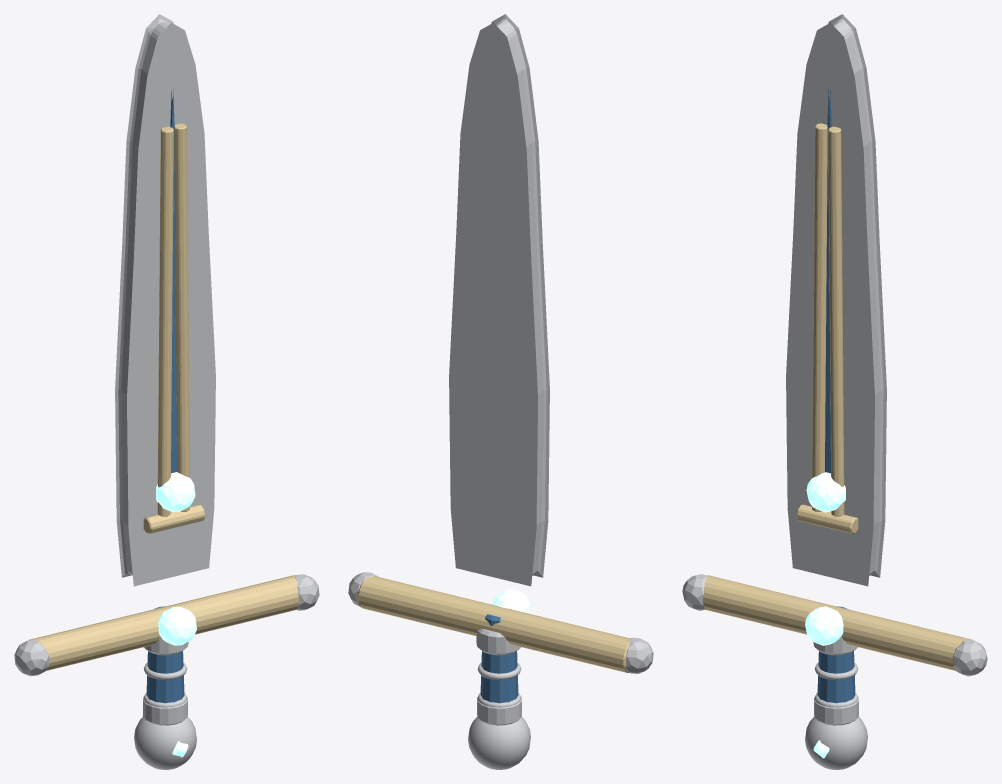
The model's file is warrior-sword-10-royal-lion.glb.
3 views of the same model, side by side, from view 1: azimuth 30°, elevation 25°; view 2: azimuth 150°, elevation 25°; view 3: azimuth 330°, elevation 25° (orthographic).
Visible parts, largest first — view 1: warrior-sword-10-royal-lion_ForgedBlade, warrior-sword-10-royal-lion_Crossguard, warrior-sword-10-royal-lion_GothicFullerRail_-1, warrior-sword-10-royal-lion_GothicFullerRail_1, warrior-sword-10-royal-lion_Pommel, warrior-sword-10-royal-lion_LeatherGrip, warrior-sword-10-royal-lion_ColoredFuller, warrior-sword-10-royal-lion_GuardGem, warrior-sword-10-royal-lion_FleurSapphire, warrior-sword-10-royal-lion_GuardEnd_-1, warrior-sword-10-royal-lion_HeraldicCrossbar, warrior-sword-10-royal-lion_LowerFerrule (+1 smaller); view 2: warrior-sword-10-royal-lion_ForgedBlade, warrior-sword-10-royal-lion_Crossguard, warrior-sword-10-royal-lion_Pommel, warrior-sword-10-royal-lion_LeatherGrip, warrior-sword-10-royal-lion_LowerFerrule, warrior-sword-10-royal-lion_GuardEnd_-1, warrior-sword-10-royal-lion_UpperFerrule, warrior-sword-10-royal-lion_GuardGem; view 3: warrior-sword-10-royal-lion_ForgedBlade, warrior-sword-10-royal-lion_Crossguard, warrior-sword-10-royal-lion_GothicFullerRail_1, warrior-sword-10-royal-lion_GothicFullerRail_-1, warrior-sword-10-royal-lion_Pommel, warrior-sword-10-royal-lion_LeatherGrip, warrior-sword-10-royal-lion_ColoredFuller, warrior-sword-10-royal-lion_GuardGem, warrior-sword-10-royal-lion_FleurSapphire, warrior-sword-10-royal-lion_GuardEnd_1, warrior-sword-10-royal-lion_HeraldicCrossbar, warrior-sword-10-royal-lion_LowerFerrule (+1 smaller).
Part boxes in pixels (x1,y1,x2,y2): warrior-sword-10-royal-lion_ForgedBlade: (115,14,215,586); warrior-sword-10-royal-lion_Crossguard: (29,575,298,670); warrior-sword-10-royal-lion_GothicFullerRail_-1: (157,126,173,516); warrior-sword-10-royal-lion_GothicFullerRail_1: (174,123,189,511); warrior-sword-10-royal-lion_Pommel: (134,717,196,769); warrior-sword-10-royal-lion_LeatherGrip: (146,606,184,703); warrior-sword-10-royal-lion_ColoredFuller: (170,88,176,473); warrior-sword-10-royal-lion_GuardGem: (158,606,196,645); warrior-sword-10-royal-lion_FleurSapphire: (156,472,195,512); warrior-sword-10-royal-lion_GuardEnd_-1: (14,640,49,676); warrior-sword-10-royal-lion_HeraldicCrossbar: (143,504,205,533); warrior-sword-10-royal-lion_LowerFerrule: (143,697,187,725); warrior-sword-10-royal-lion_ForgedBlade: (449,14,549,586); warrior-sword-10-royal-lion_Crossguard: (358,576,630,672); warrior-sword-10-royal-lion_Pommel: (468,717,530,769); warrior-sword-10-royal-lion_LeatherGrip: (480,614,518,703); warrior-sword-10-royal-lion_LowerFerrule: (477,696,521,725); warrior-sword-10-royal-lion_GuardEnd_-1: (626,637,653,673); warrior-sword-10-royal-lion_UpperFerrule: (476,628,520,655); warrior-sword-10-royal-lion_GuardGem: (492,589,530,613); warrior-sword-10-royal-lion_ForgedBlade: (786,14,886,586); warrior-sword-10-royal-lion_Crossguard: (703,575,974,670); warrior-sword-10-royal-lion_GothicFullerRail_1: (828,126,844,516); warrior-sword-10-royal-lion_GothicFullerRail_-1: (812,123,827,511); warrior-sword-10-royal-lion_Pommel: (805,717,867,769); warrior-sword-10-royal-lion_LeatherGrip: (817,606,855,703); warrior-sword-10-royal-lion_ColoredFuller: (825,88,831,473); warrior-sword-10-royal-lion_GuardGem: (805,606,843,645); warrior-sword-10-royal-lion_FleurSapphire: (806,472,845,512); warrior-sword-10-royal-lion_GuardEnd_1: (952,639,987,676); warrior-sword-10-royal-lion_HeraldicCrossbar: (796,504,858,533); warrior-sword-10-royal-lion_LowerFerrule: (814,697,858,725).
Bounding box in the file's own units: 0.7015 × 1.67 × 0.15.
